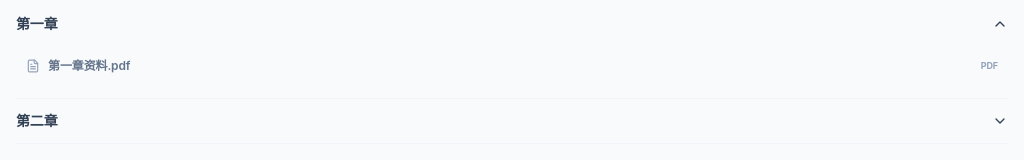
KnowledgeTree › keeps only the most recently opened chapter expanded
The image size is (1024, 160).
Expected: the text "第一章资料.pdf" is shown, [48,58,130,73]
Expected: the text "第二章资料.pdf" is not shown
Click the button "第二章". click: (37, 120)
box: [16,99,1008,143]
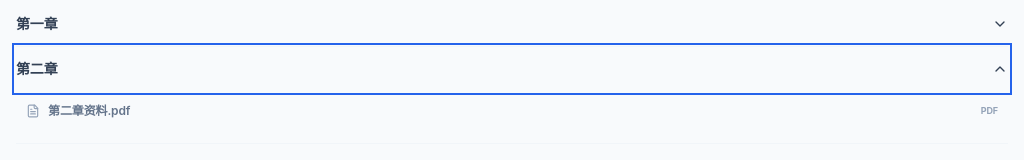
Result: the button "第一章资料.pdf" is gone
Result: the text "第二章资料.pdf" is shown at [48,103,130,118]
